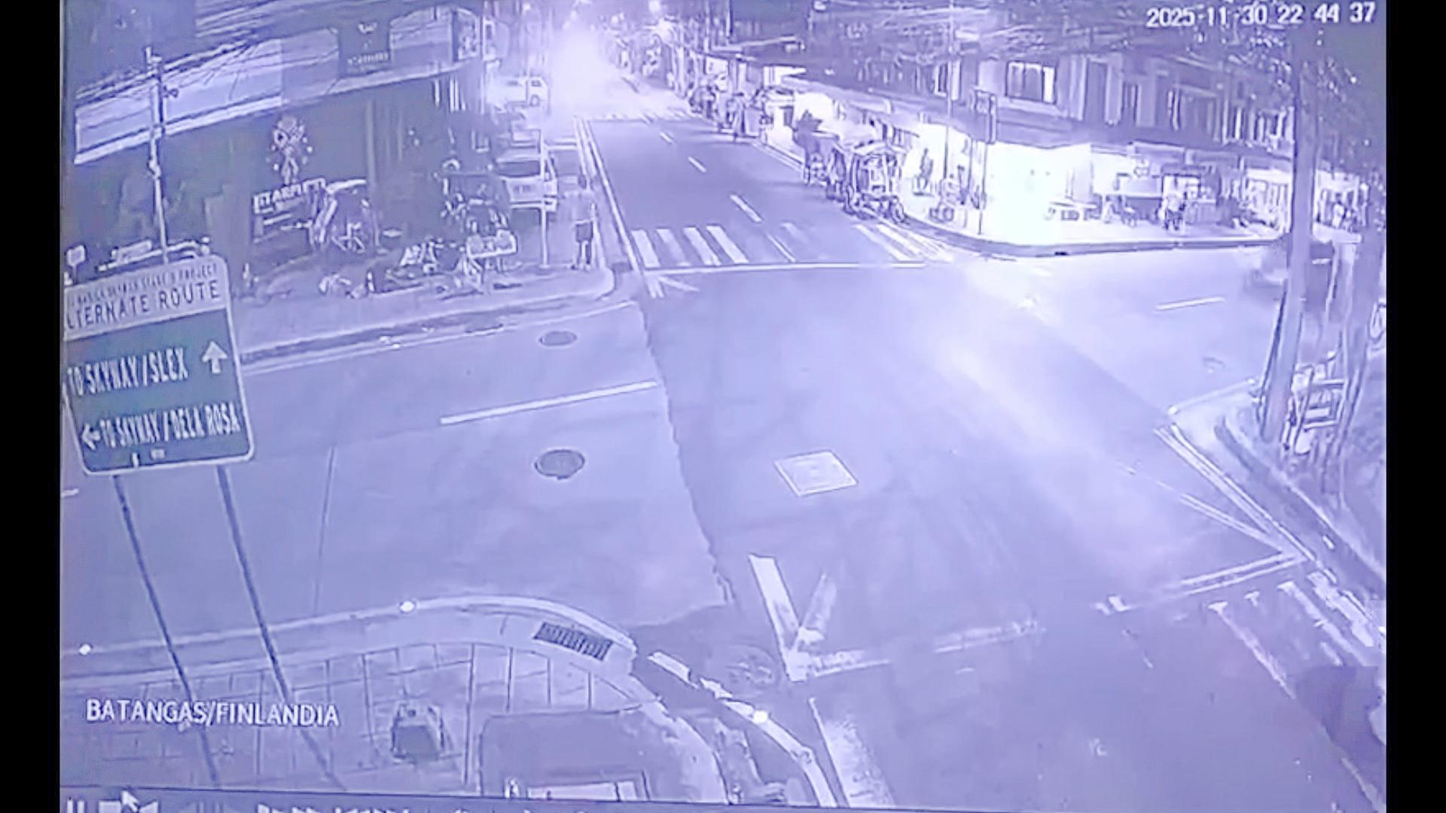Car: (1260, 217, 1337, 305)
